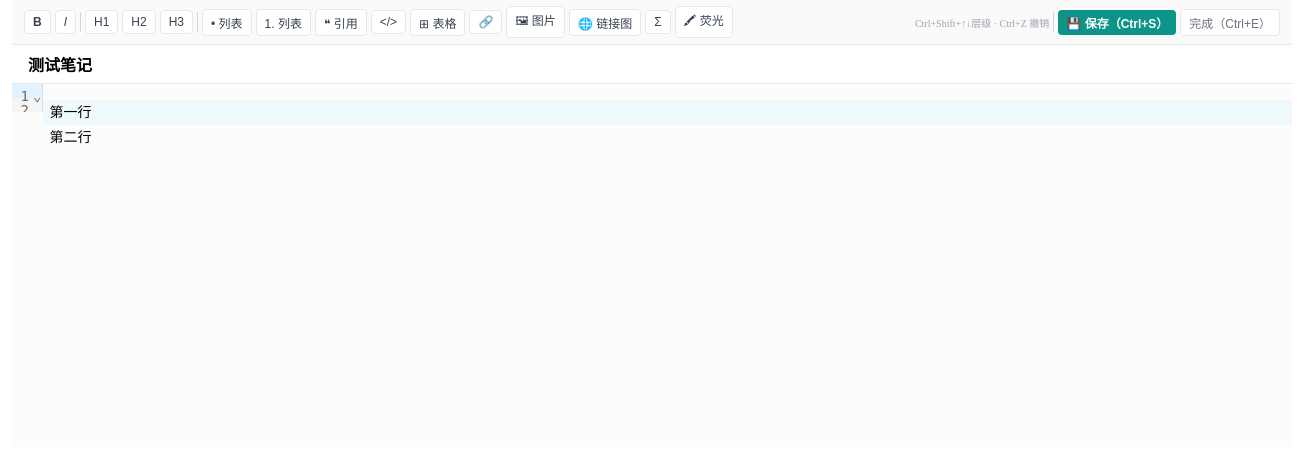
Test: RichEditorView 核心编辑 › 工具栏 H2 点击 → doc 出现 ## 且光标落位
The image size is (1304, 464).
Expected: the field with class "cm-content" shows "第一行", [43,100,1292,145]
Click the button titled "标题2 Ctrl+2" at (139, 22), box [122,10,156,34]
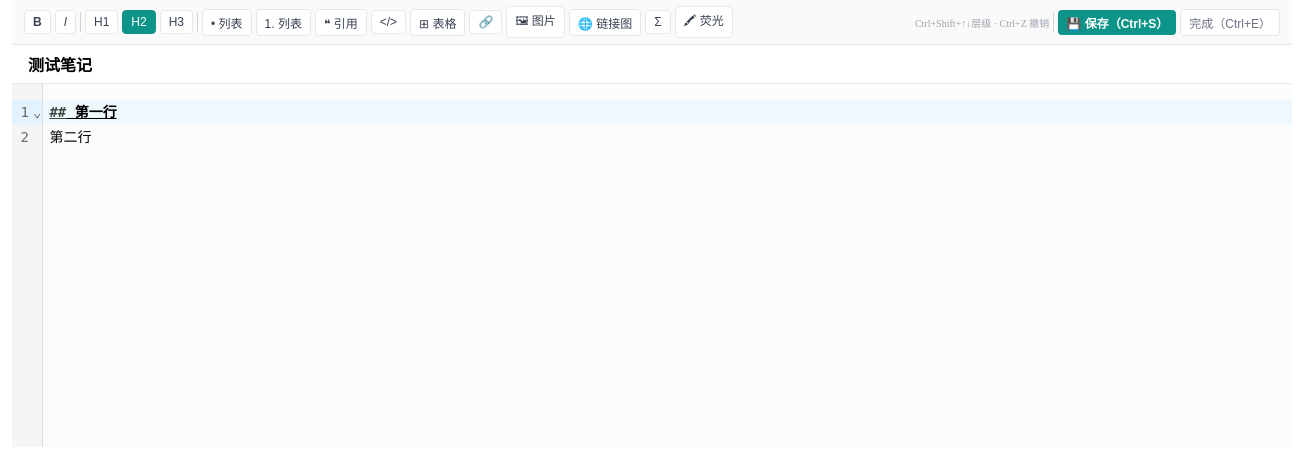
Expected: the field with class "cm-content" shows "## 第一行", [43,100,1292,145]
